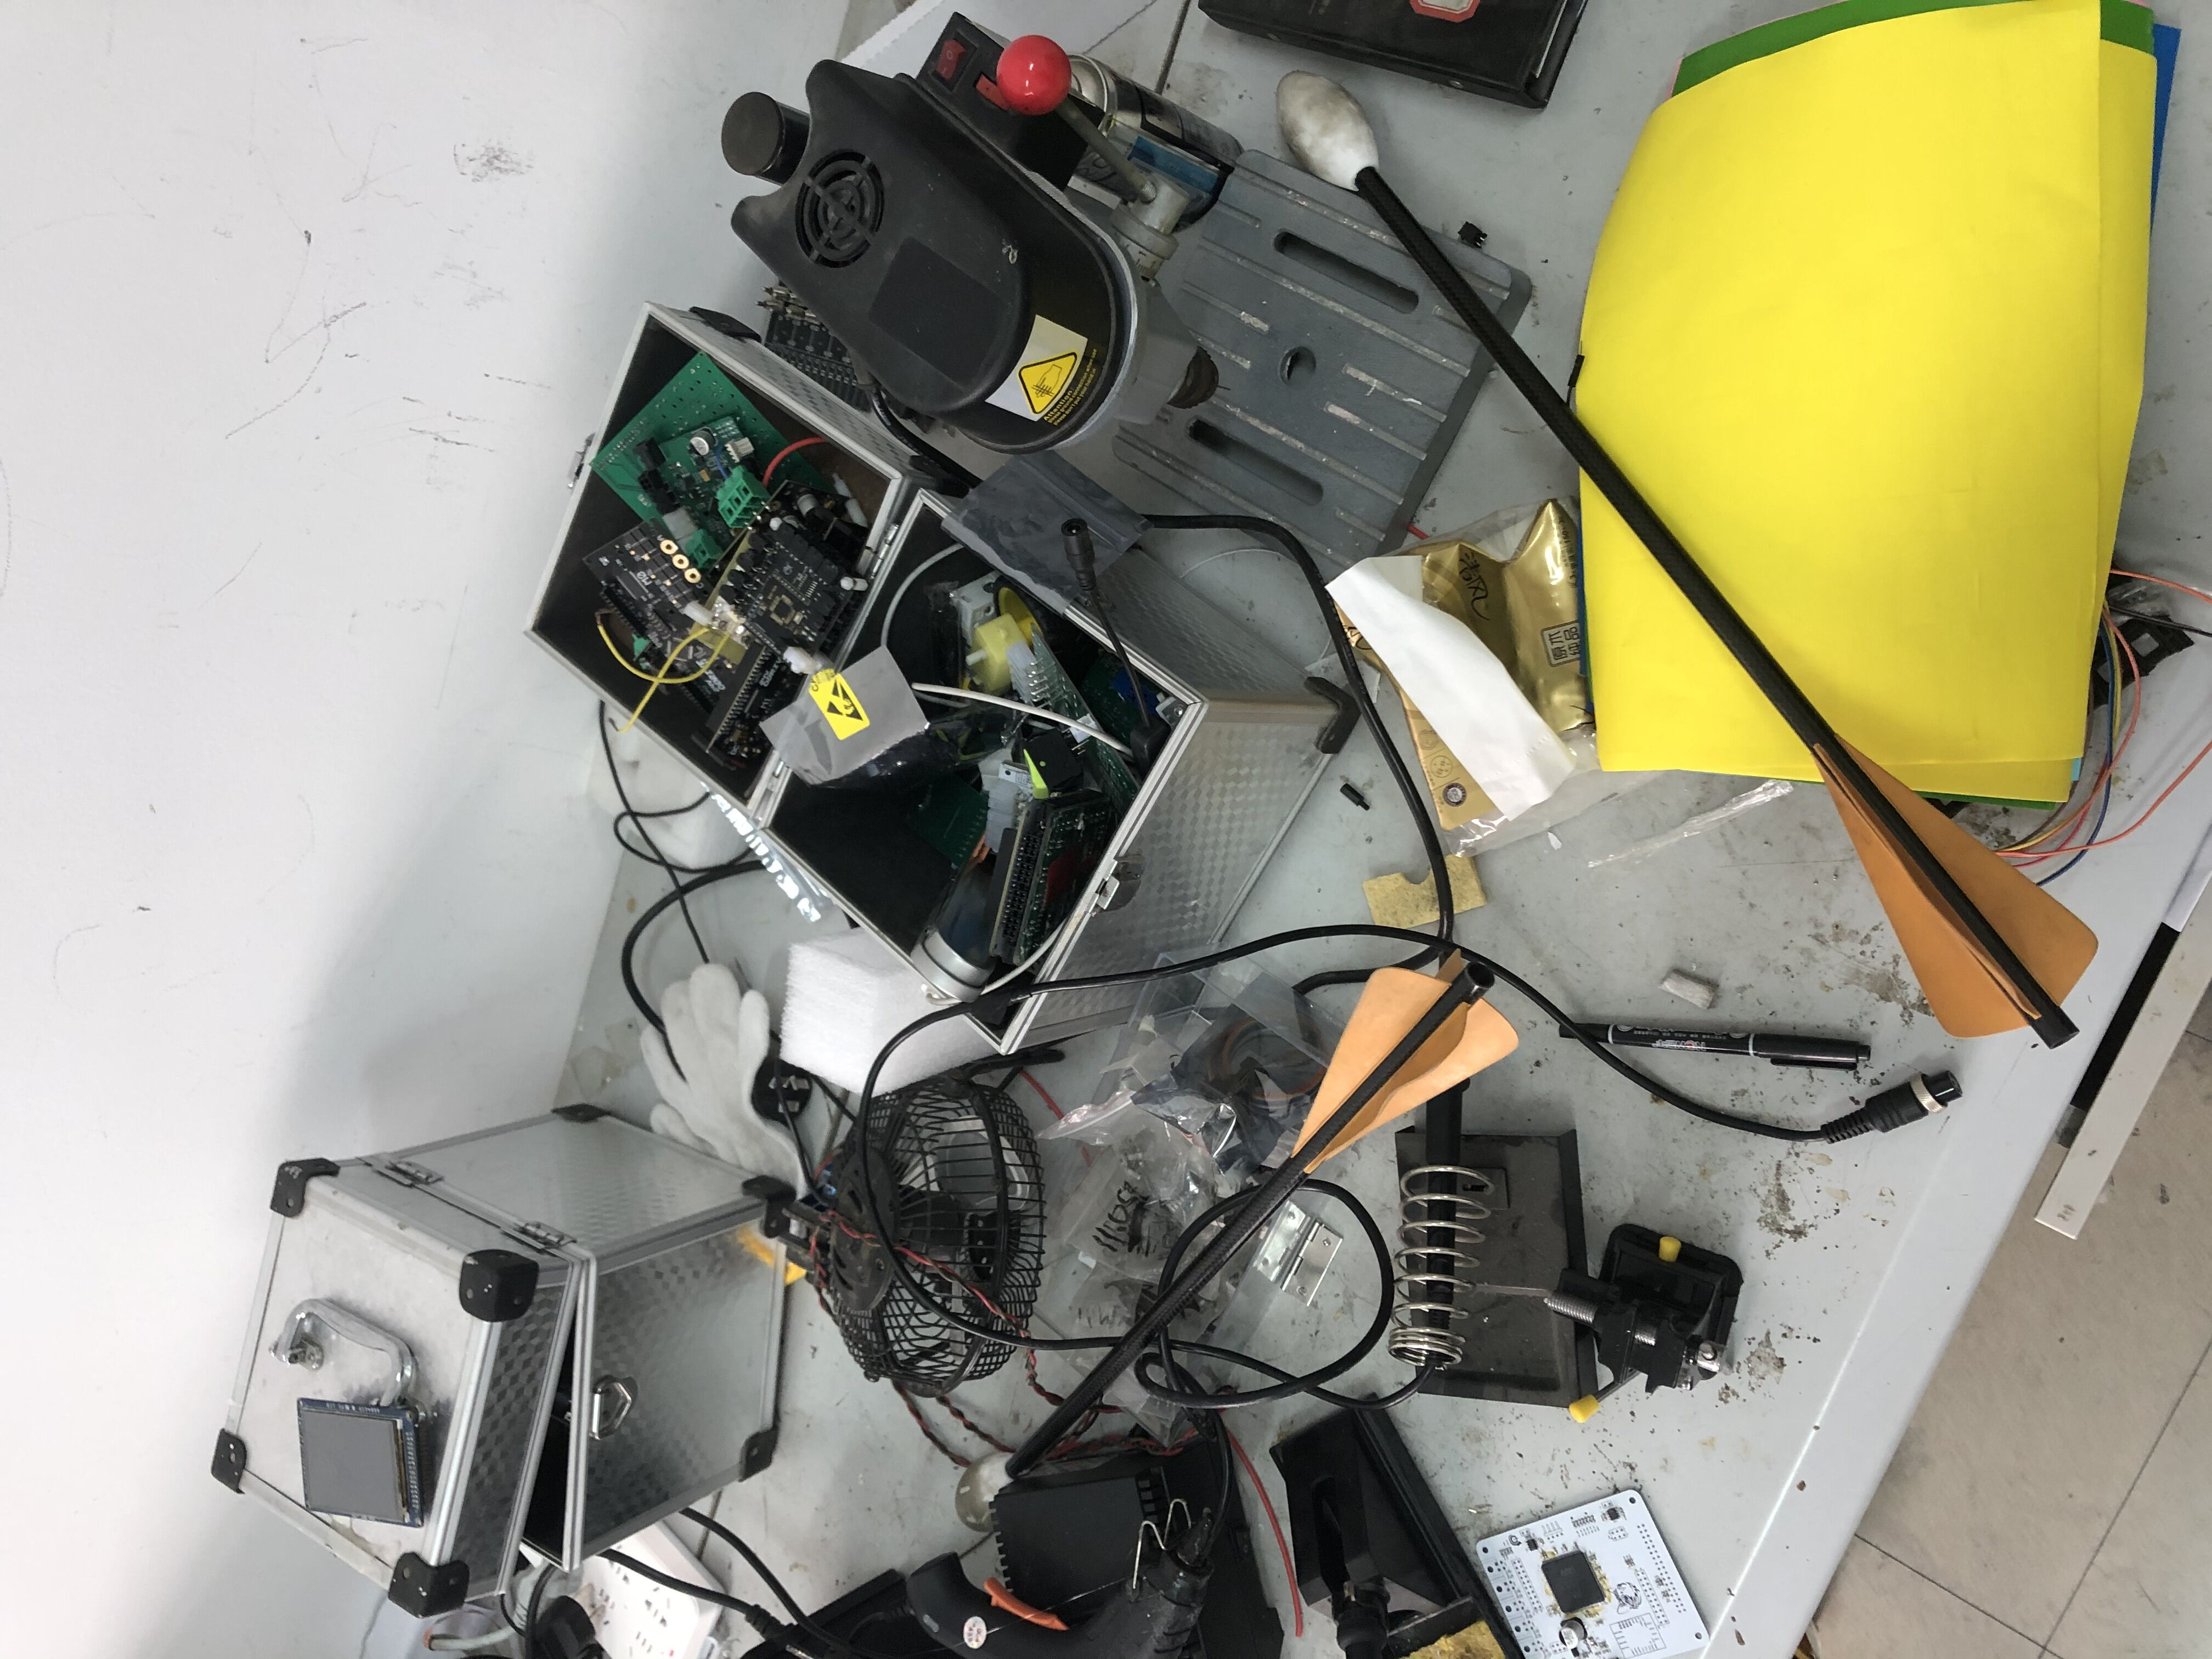arrow: (1277, 70, 2099, 1049), (953, 950, 1524, 1535)
arrowFront: (1273, 64, 1383, 193), (954, 1443, 1031, 1534)
